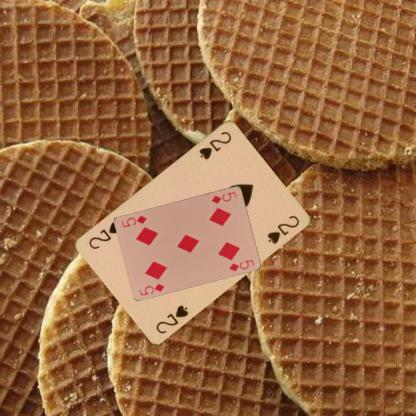2s: (196, 128, 233, 162), (153, 301, 190, 334)
5d: (137, 280, 166, 297), (209, 188, 238, 204)
